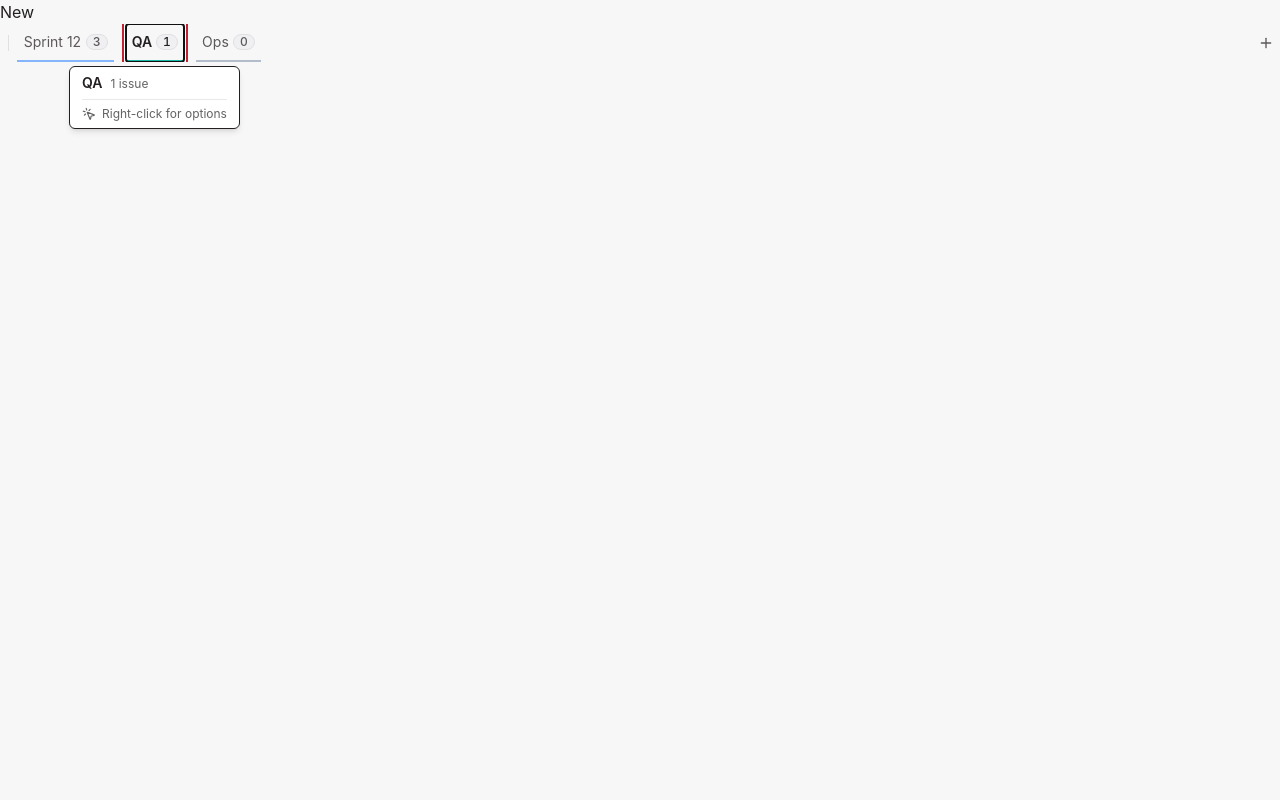
GroupTabStrip overlays › closes the rename popover and toasts when the group vanishes
This screenshot has width=1280, height=800.
Type keys "{Shift>}{F10}{/Shift}"
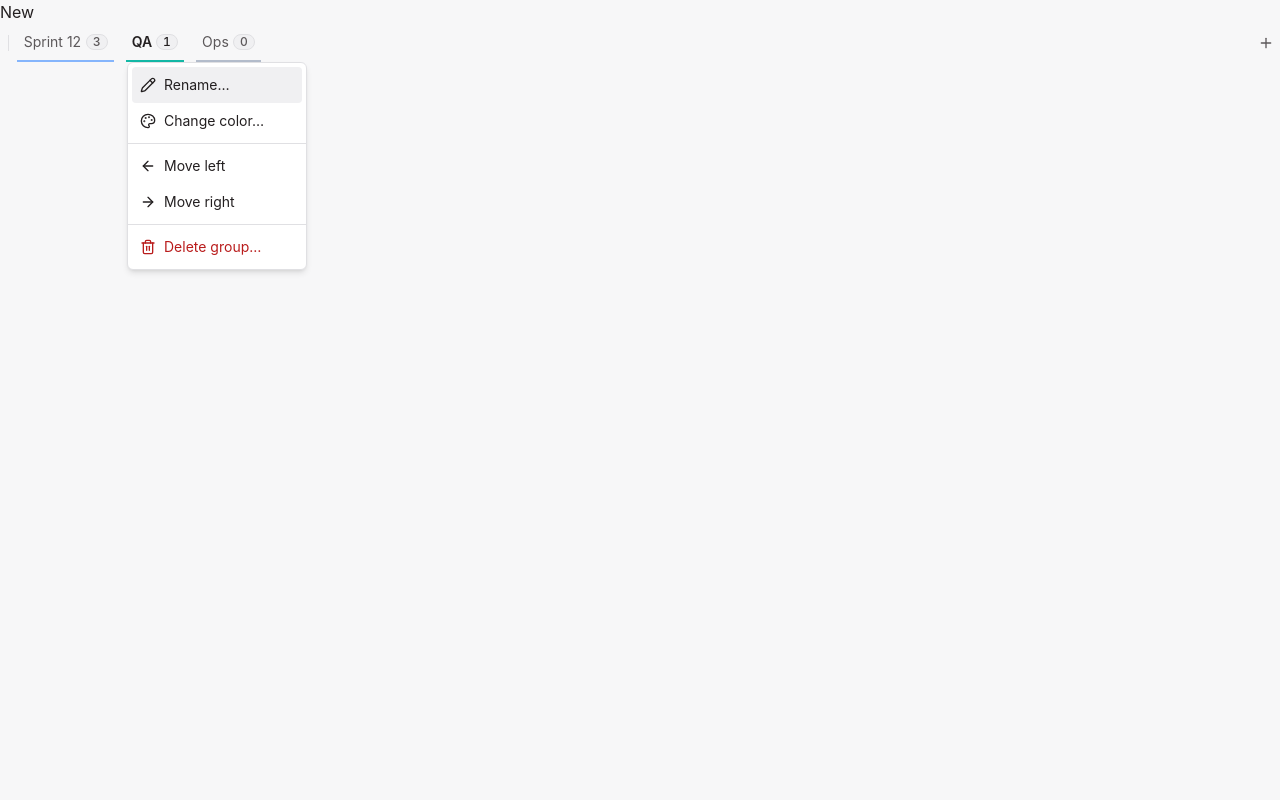
Click the menu item "Rename…" at (217, 85), box [132,67,302,103]
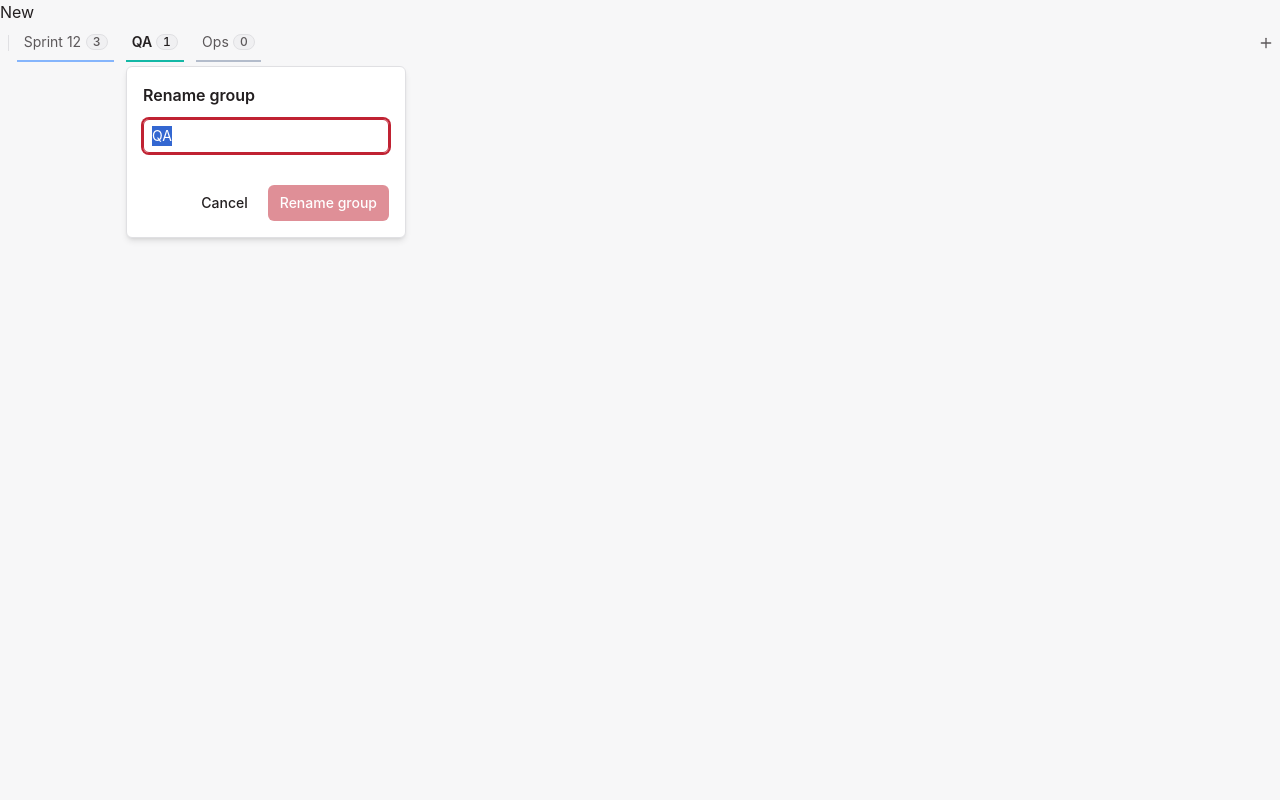
Now the field named "Group name" is shown, box [143,119,389,153]
